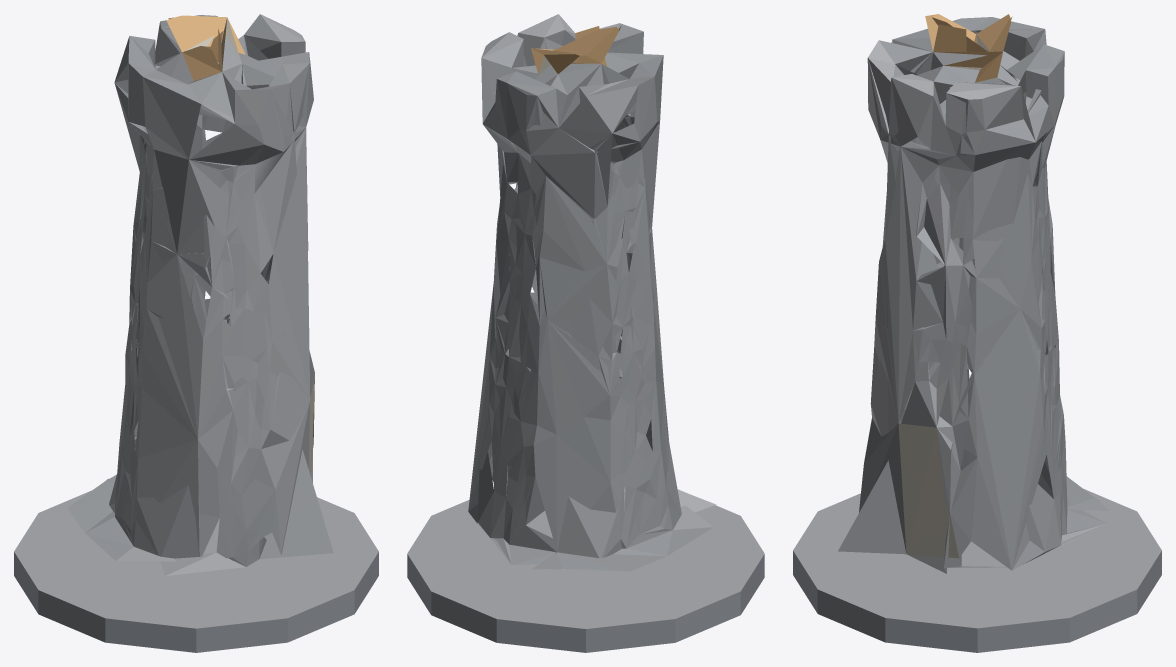
The model's file is etape-4.glb.
The picture shows the model from 3 angles, left to right: view 1: azimuth 30°, elevation 25°; view 2: azimuth 150°, elevation 25°; view 3: azimuth 270°, elevation 25°; orthographic projection. The views are drawn at different scales.
Parts seen in each view (by area): view 1: geometry_0; view 2: geometry_0; view 3: geometry_0.
Part boxes in pixels (x1=…): geometry_0: x1=14, y1=14, x2=378, y2=652; geometry_0: x1=407, y1=14, x2=764, y2=652; geometry_0: x1=793, y1=14, x2=1161, y2=652.
Bounding box in the file's own units: 0.68 × 1.13 × 0.68.
